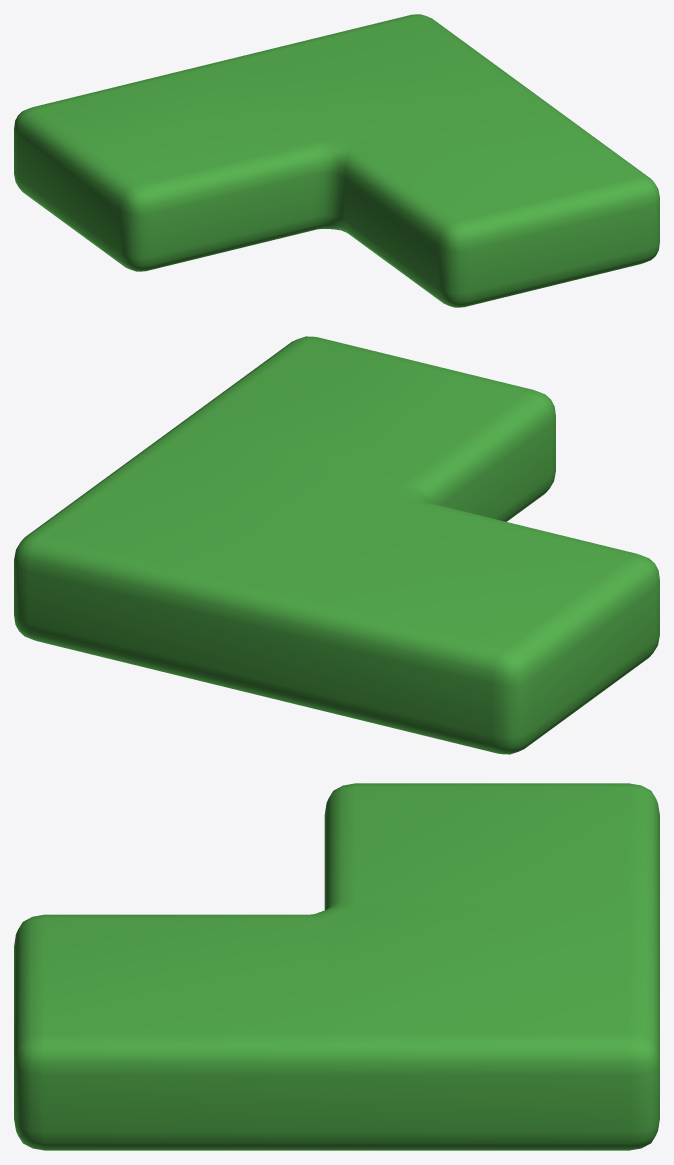
File: ground_type_06.FBX
The picture shows the model from 3 angles, top to bottom: view 1: azimuth 30°, elevation 25°; view 2: azimuth 150°, elevation 25°; view 3: azimuth 270°, elevation 25°; orthographic projection. The views are drawn at different scales.
Visible parts, largest first — view 1: ground_type_06; view 2: ground_type_06; view 3: ground_type_06.
Boxes of the visible parts, left/top/right/bottom form: ground_type_06: left=14, top=14, right=659, bottom=307; ground_type_06: left=14, top=336, right=659, bottom=754; ground_type_06: left=14, top=783, right=659, bottom=1150.
Size of the model in its own units: 2080 by 2080 by 400.
Materials: 1 (1 with a texture image).
